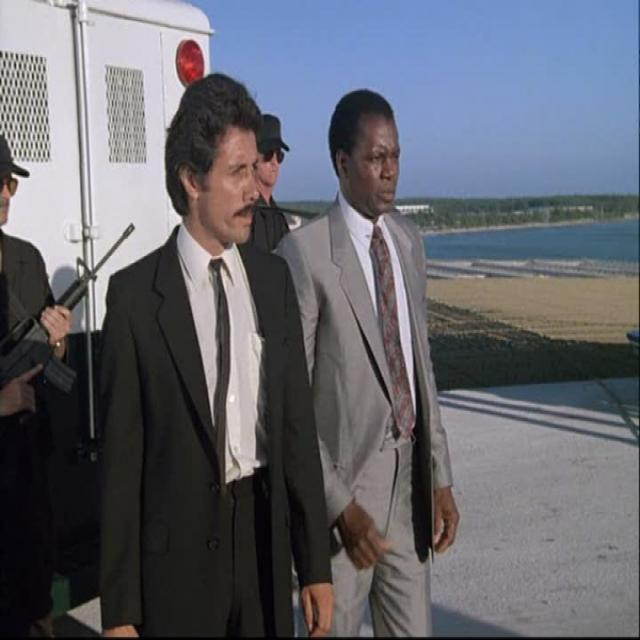rifle: (1, 222, 140, 392)
